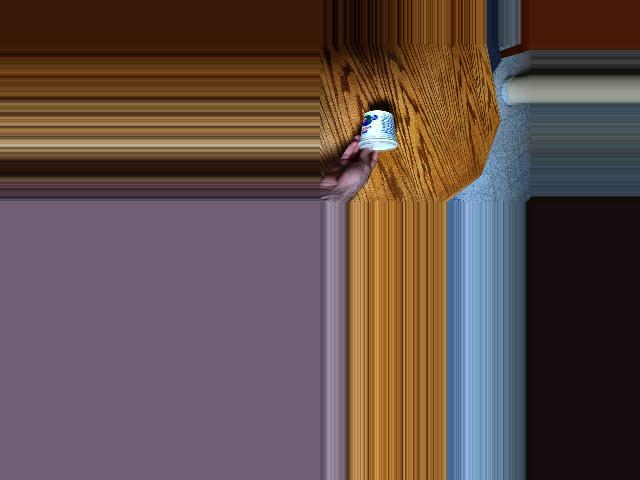cotage: (354, 112, 404, 159)
